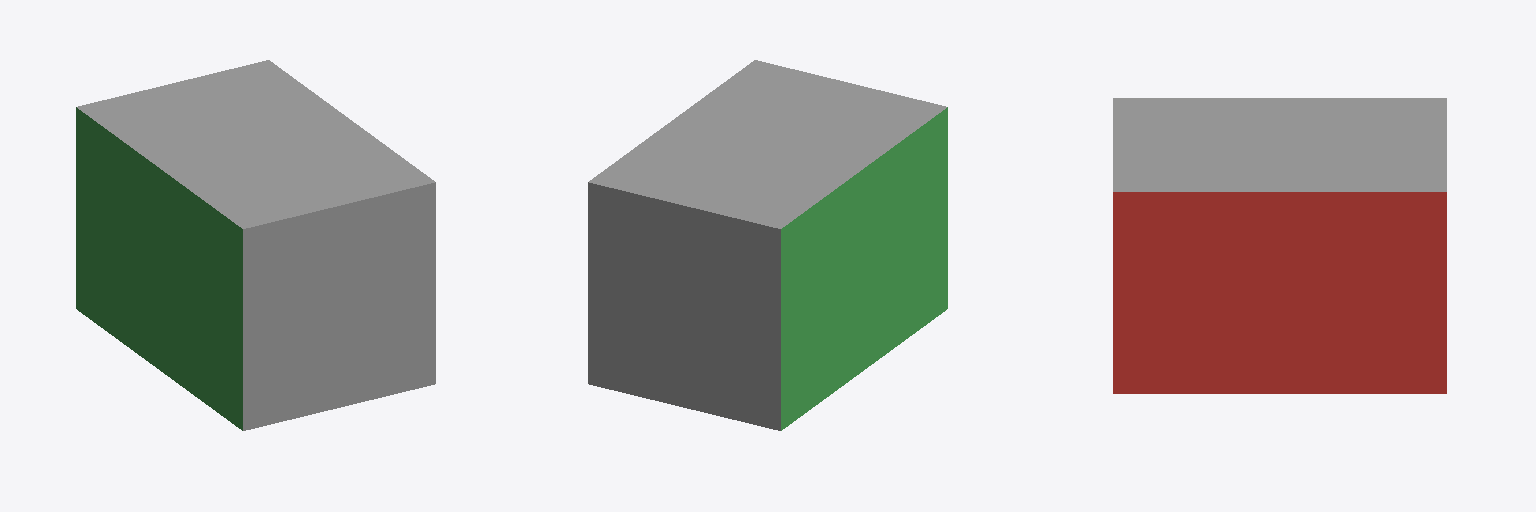
3 views of the same model, side by side, from view 1: azimuth 30°, elevation 25°; view 2: azimuth 150°, elevation 25°; view 3: azimuth 270°, elevation 25° (orthographic).
Parts seen in each view (by area): view 1: Cube_Cube.001, Cube.001_Cube.002; view 2: Cube_Cube.001, Cube.001_Cube.002; view 3: Cube.002_Cube.003, Cube_Cube.001.
Part boxes in pixels (x1,y1,x2,y2): Cube_Cube.001: (77, 60, 435, 430); Cube.001_Cube.002: (76, 107, 242, 430); Cube_Cube.001: (588, 60, 946, 430); Cube.001_Cube.002: (781, 107, 947, 430); Cube.002_Cube.003: (1113, 192, 1446, 393); Cube_Cube.001: (1113, 98, 1446, 191).
Bounding box in the file's own units: 5 × 5.51 × 7.5.